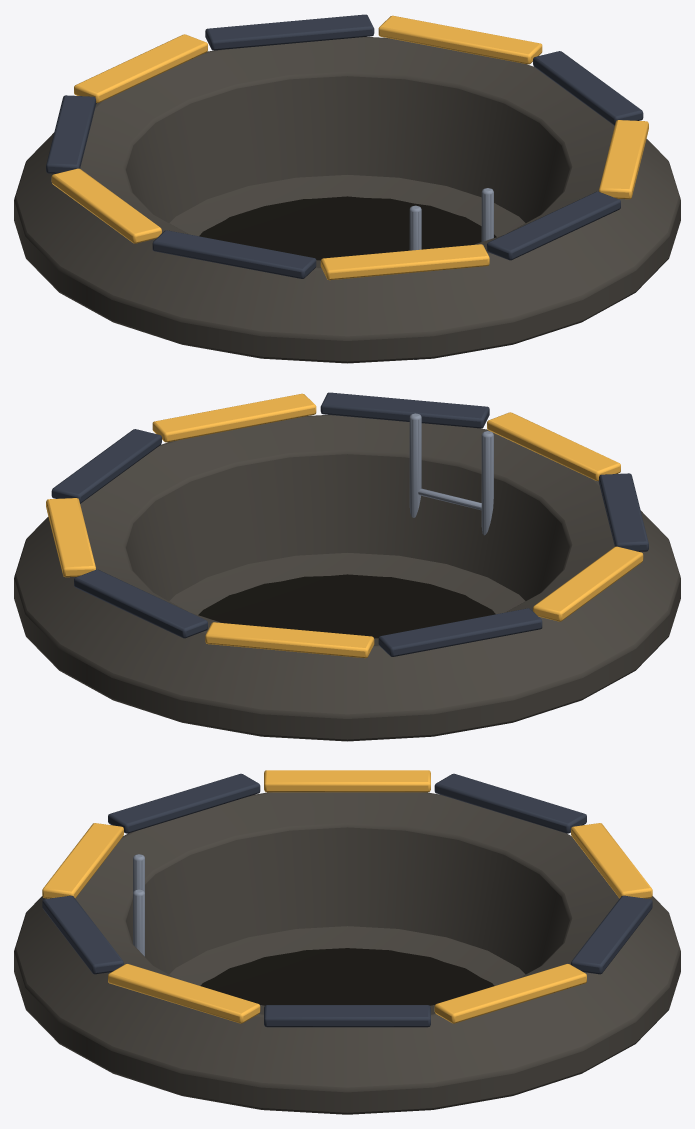
Rendered from grube.fbx.
3 renders of one model, top to bottom at view 1: azimuth 30°, elevation 25°; view 2: azimuth 150°, elevation 25°; view 3: azimuth 270°, elevation 25°, orthographic.
Visible parts, largest first — view 1: grube_Koerper; view 2: grube_Koerper; view 3: grube_Koerper.
Boxes of the visible parts, left/top/right/bottom form: grube_Koerper: left=14, top=14, right=680, bottom=363; grube_Koerper: left=14, top=392, right=680, bottom=741; grube_Koerper: left=14, top=770, right=680, bottom=1114.
Bounding box in the file's own units: 2.4 × 0.75 × 2.4.
